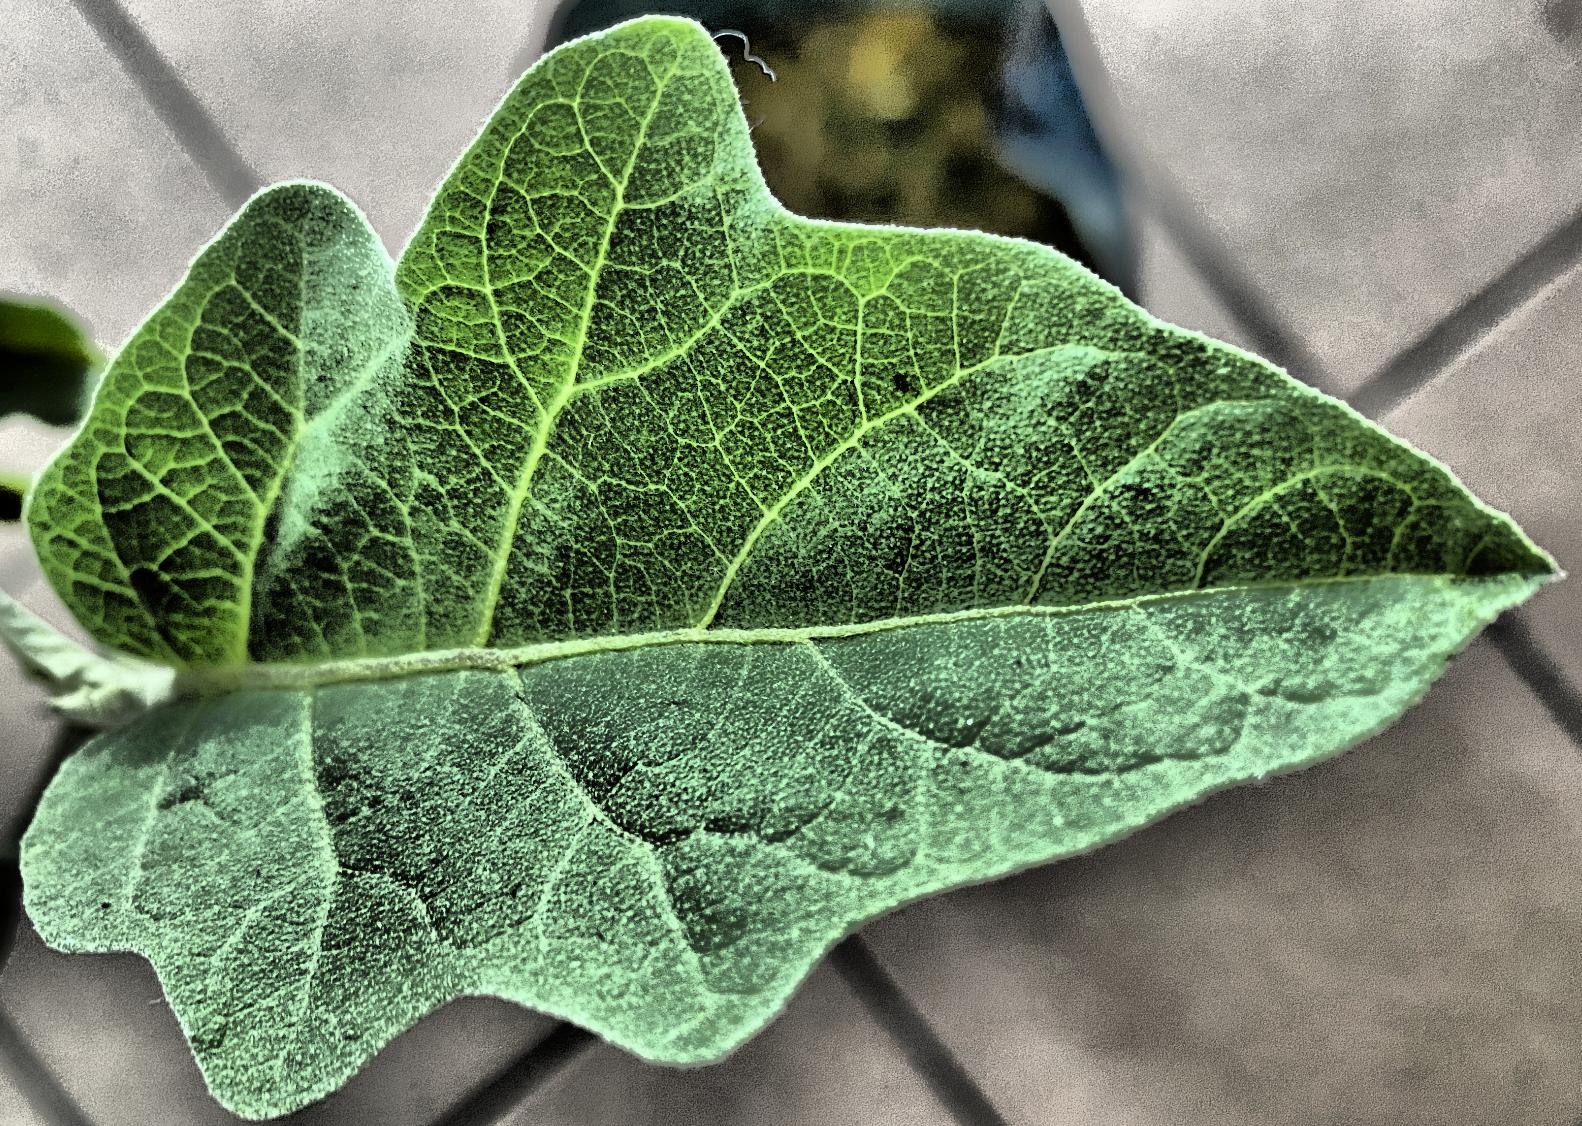HEALTHY: (1, 0, 1582, 1126)
